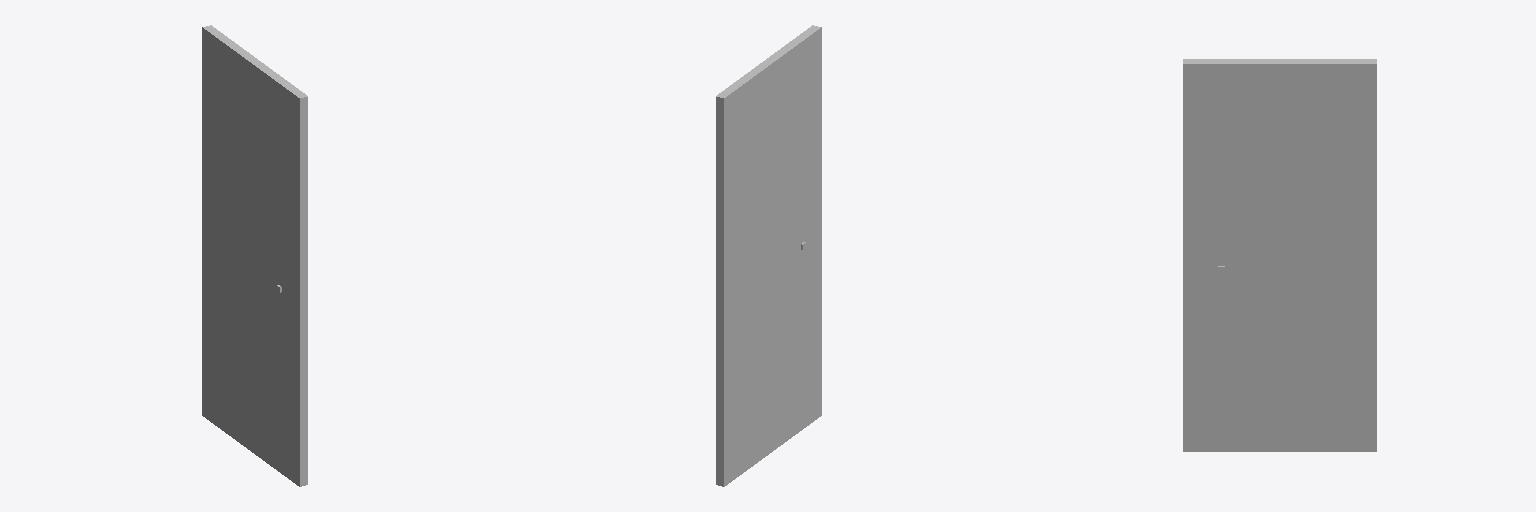
The model's file is deur.obj.
The picture shows the model from 3 angles: view 1: azimuth 30°, elevation 25°; view 2: azimuth 150°, elevation 25°; view 3: azimuth 270°, elevation 25°; orthographic projection.
Visible parts, largest first — view 1: Cube.003_Cube.004; view 2: Cube.003_Cube.004; view 3: Cube_Cube.001, Cube.003_Cube.004.
Boxes of the visible parts, x1=… form: Cube.003_Cube.004: x1=202, y1=25, x2=307, y2=486; Cube.003_Cube.004: x1=716, y1=25, x2=821, y2=486; Cube_Cube.001: x1=1192, y1=65, x2=1367, y2=451; Cube.003_Cube.004: x1=1183, y1=59, x2=1376, y2=451.
Bounding box in the file's own units: 0.1444 × 3.88 × 1.76.